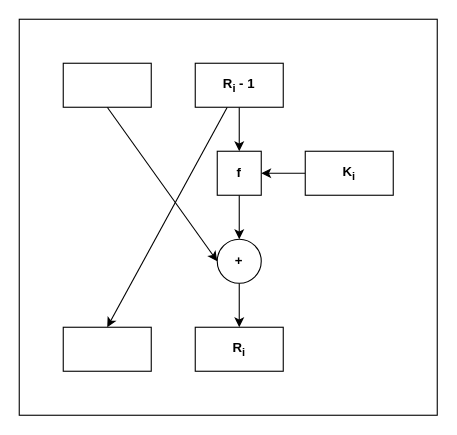
Some shapes in this 457 by 435 pixel diagram are drawn without their labels. The centre of each missing label's shape, as x and y in pixels:
L i: the point at 106,348
L i - 1: the point at 106,84
